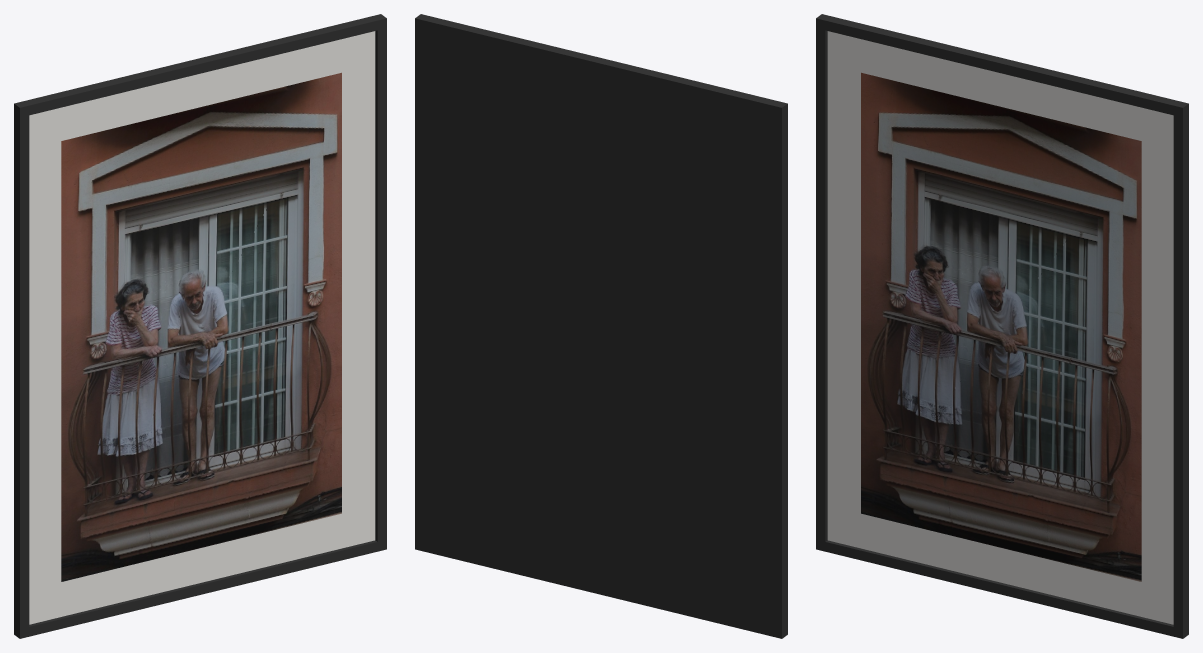
Rendered from balkongen-90.gltf.
3 renders of one model, left to right at view 1: azimuth 30°, elevation 25°; view 2: azimuth 150°, elevation 25°; view 3: azimuth 330°, elevation 25°, orthographic.
Parts seen in each view (by area): view 1: tavla; view 2: tavla; view 3: tavla.
Part boxes in pixels (x1,y1,x2,y2): tavla: (14,14,386,638); tavla: (415,14,787,638); tavla: (816,14,1188,638).
Size of the model in its own units: 0.784 by 1.08 by 0.022.
Materials: 3 (1 with a texture image).
